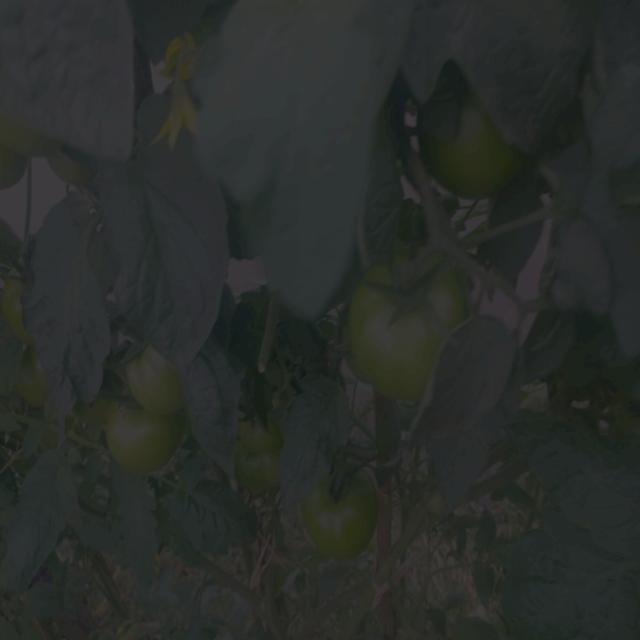tomato: (348, 246, 465, 390), (429, 102, 514, 194), (102, 399, 192, 472), (310, 464, 380, 556), (129, 350, 184, 412), (1, 121, 63, 163), (13, 346, 47, 407), (4, 278, 30, 336), (243, 449, 280, 486), (244, 411, 283, 446), (1, 143, 11, 181)
